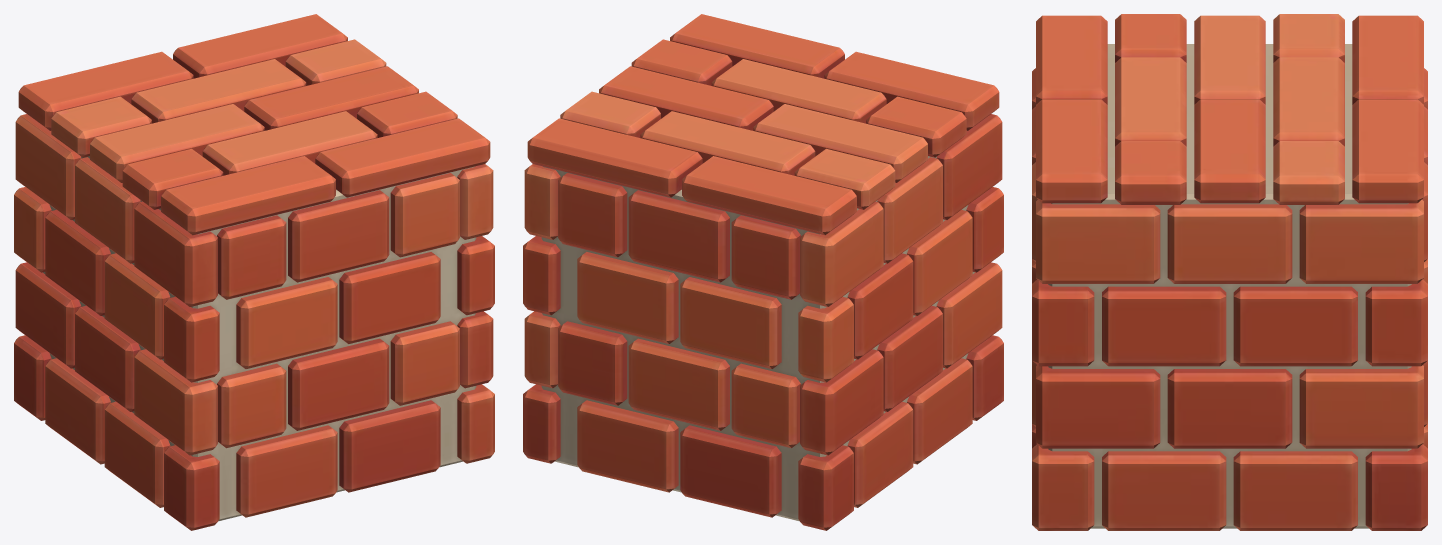
File: prop_brick.glb
3 views of the same model, side by side, from view 1: azimuth 30°, elevation 25°; view 2: azimuth 150°, elevation 25°; view 3: azimuth 270°, elevation 25° (orthographic). The views are drawn at different scales.
Visible parts, largest first — view 1: prop; view 2: prop; view 3: prop.
Part boxes in pixels (x1,y1,x2,y2): prop: (14,14,494,530); prop: (523,14,1003,530); prop: (1032,14,1427,530).
Bounding box in the file's own units: 3.7 × 3.7 × 3.7.
Materials: 1 (1 with a texture image).
